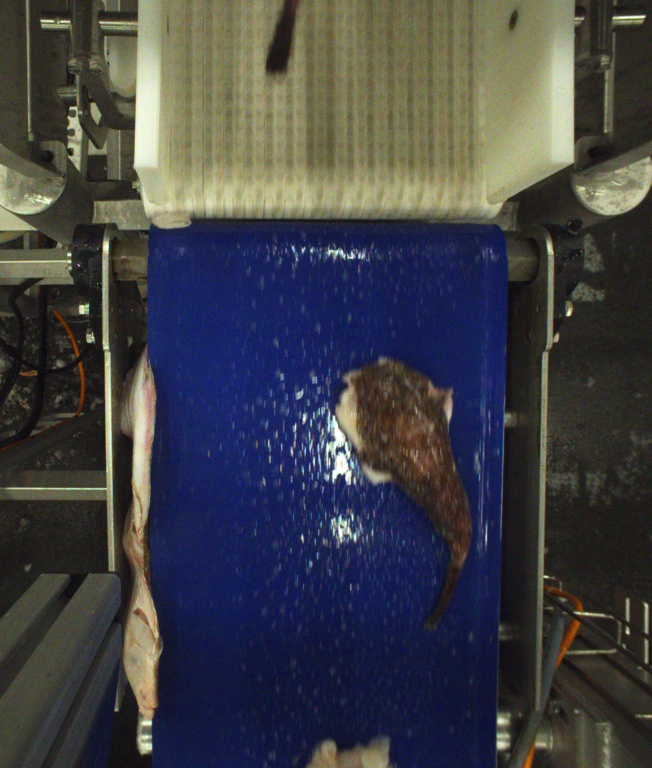ANF: (338, 352, 475, 630)
